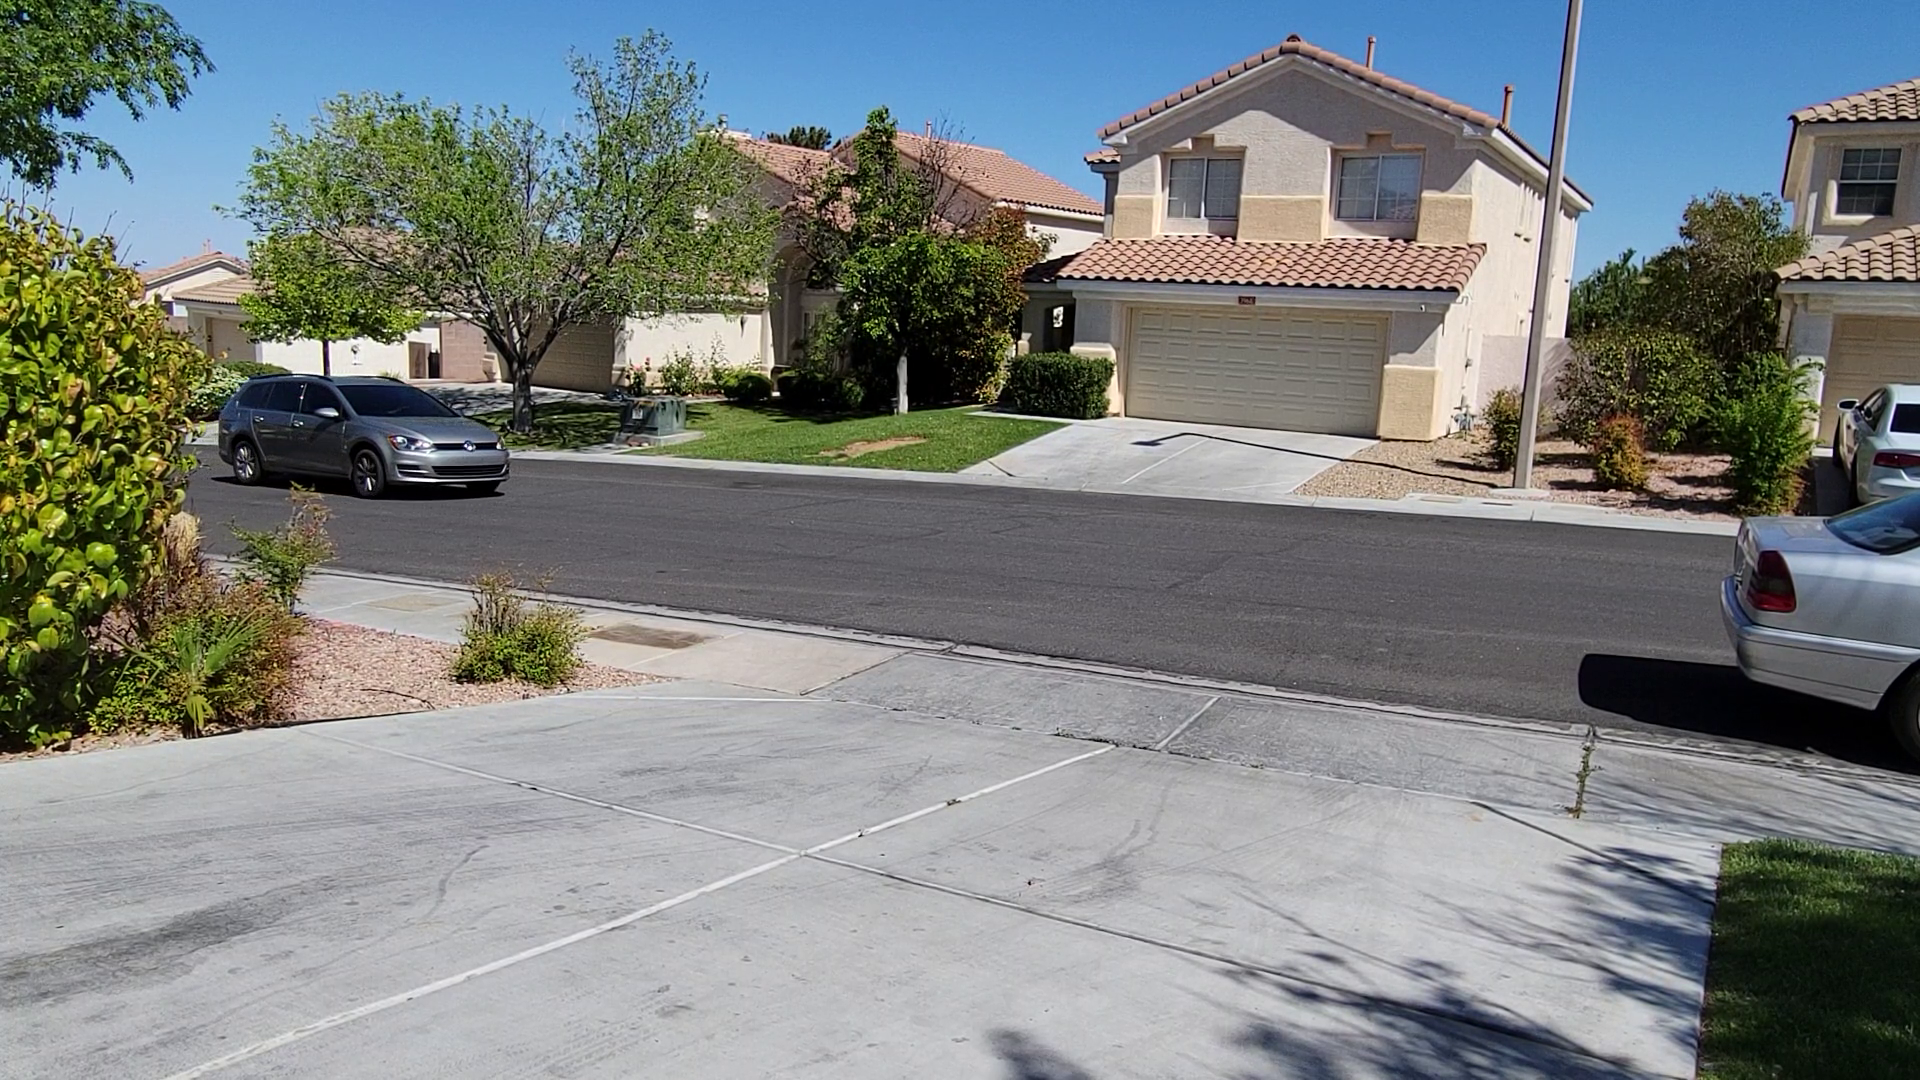car: (215, 371, 513, 500)
